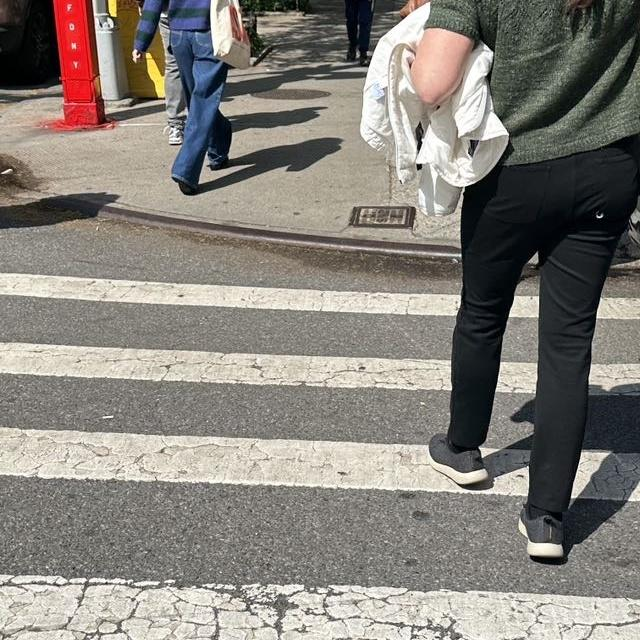curb: (21, 191, 459, 261)
